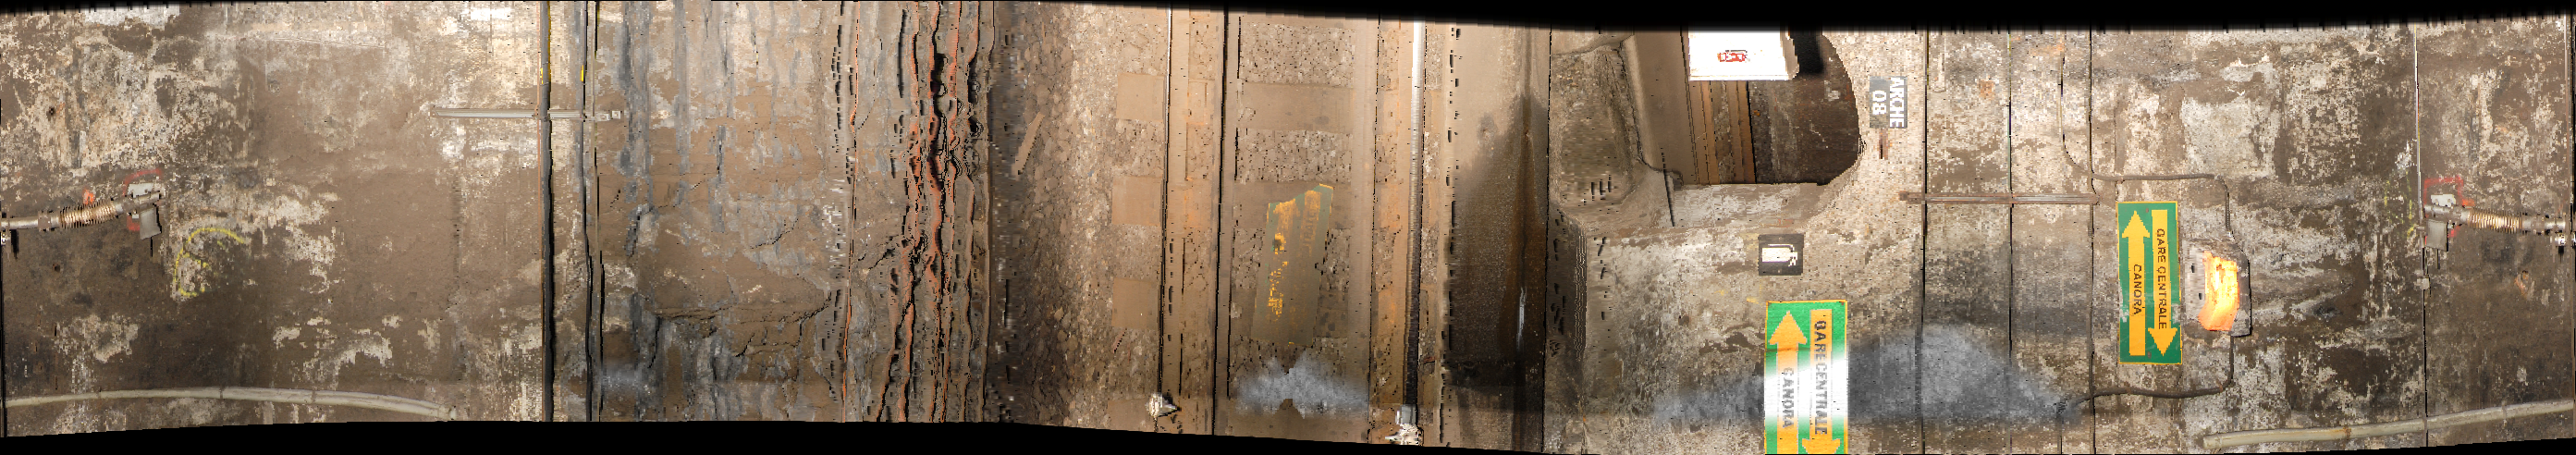light: (2203, 243, 2249, 338)
pipes: (1919, 43, 2096, 453), (839, 2, 994, 425), (534, 3, 631, 455)
sign: (1766, 301, 1848, 455), (2119, 204, 2178, 371)
tracks: (1168, 13, 1456, 448)
